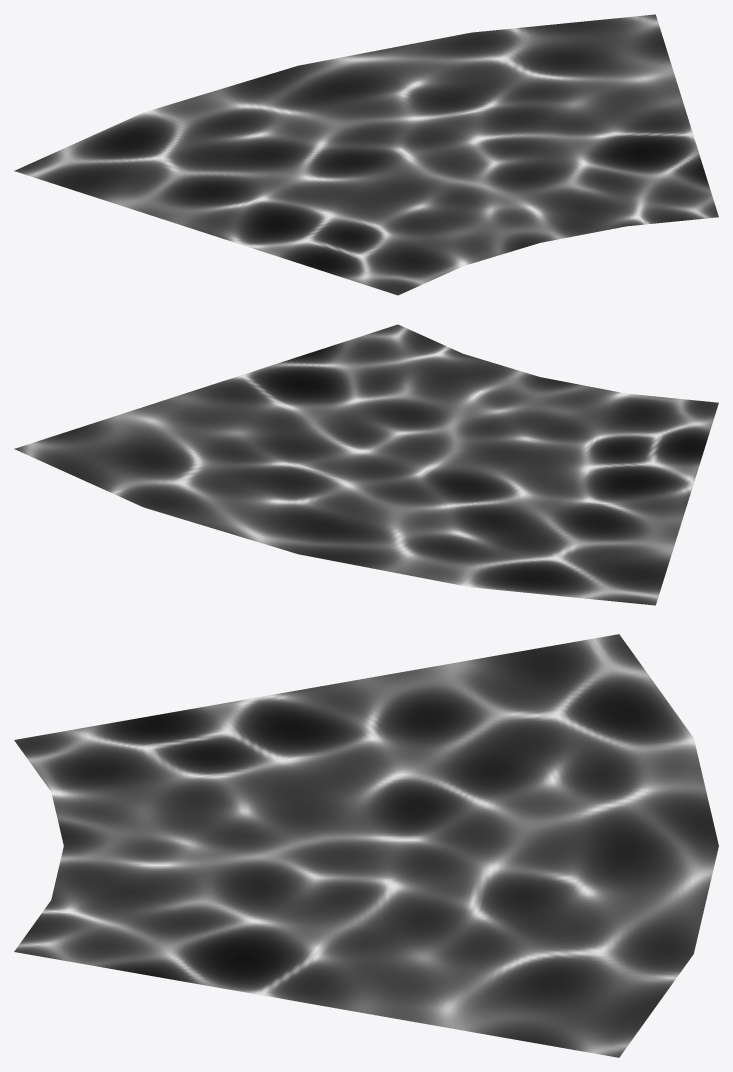
Rendered from eff_Arc01.fbx.
The picture shows the model from 3 angles, top to bottom: view 1: azimuth 30°, elevation 25°; view 2: azimuth 150°, elevation 25°; view 3: azimuth 270°, elevation 25°; orthographic projection. The views are drawn at different scales.
Visible parts, largest first — view 1: eff_Arc01_msh; view 2: eff_Arc01_msh; view 3: eff_Arc01_msh.
Boxes of the visible parts, <box> form: eff_Arc01_msh: <box>14,14,718,295</box>; eff_Arc01_msh: <box>14,324,718,605</box>; eff_Arc01_msh: <box>14,634,718,1057</box>.
Bounding box in the file's own units: 3.44 × 0 × 2.42.
